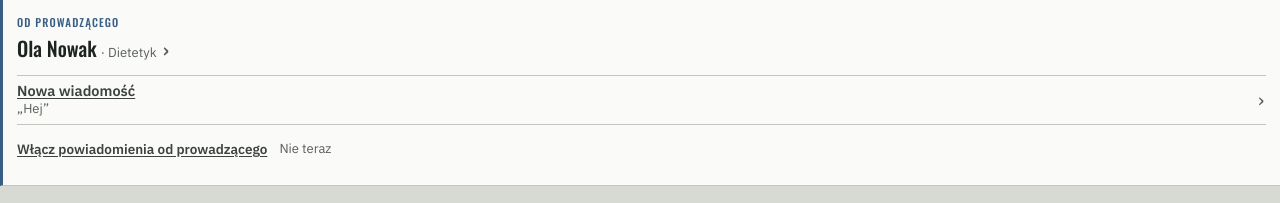
Test case: zgoda z dotknięcia › pytanie o zgodę w samym stuknięciu, przed wczytaniem modułu; potem włączenie
What coordinates should you click on to do the following:
click the button "Włącz powiadomienia od prowadzącego"
I would click on:
 (142, 149)
Its box is top-left (17, 127), bottom-right (267, 171).
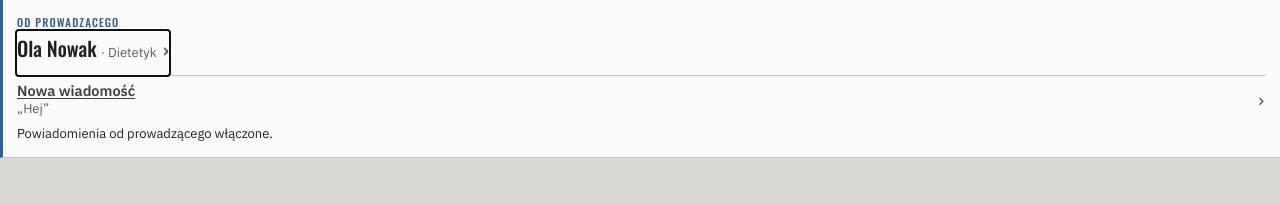
expect the text "Powiadomienia od prowadzącego włączone." is shown: met, box top-left (17, 125), bottom-right (273, 142)
